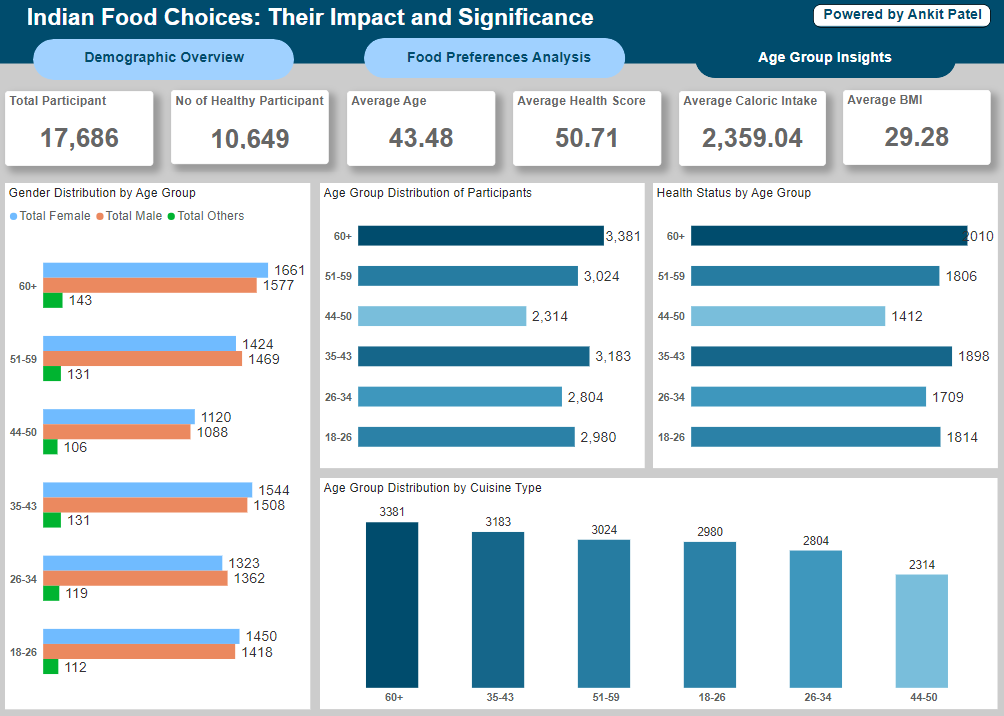

This screenshot's page, from the dashboard's own definition file:
{"tool":"powerbi","page":{"name":"Age Group Insights","canvas":[1400,1000],"ordinal":2},"visuals":[{"type":"shape","box":[0,0,1400,91.1],"z":0},{"type":"actionButton","title":"Indian Food Choices: Their Impact and Significance","box":[0,8.7,873,48],"z":1},{"type":"shape","box":[51.6,56.8,362.6,56.8],"z":2},{"type":"actionButton","title":"Demographic Overview","box":[109.7,71,247.7,27.1],"z":3},{"type":"card","title":"Total Participant ","fields":{"Values":["Meausres Table.Total People"]},"box":[13.1,128.8,206.2,103.7],"z":4},{"type":"card","title":"Average Age","fields":{"Values":["Meausres Table.Average Age"]},"box":[487.4,128.8,206.2,103.7],"z":5},{"type":"card","title":"No of Healthy Participant ","fields":{"Values":["Meausres Table.Total Healthy Participant"]},"box":[243.7,128.4,219.4,103],"z":6},{"type":"card","title":"Average Health Score","fields":{"Values":["Meausres Table.Average Health Score"]},"box":[718,128.8,206.2,103.7],"z":7},{"type":"card","title":"Average BMI","fields":{"Values":["Meausres Table.Average BMI"]},"box":[1177,128.4,205.4,104.1],"z":8},{"type":"card","title":"Average Caloric Intake","fields":{"Values":["Meausres Table.Average Caloric Intake"]},"box":[948.6,128.8,204.1,103.7],"z":9},{"type":"clusteredBarChart","title":"Gender Distribution by Age Group","fields":{"Category":["food_impact_india.Age Group"],"Y":["Meausres Table.Total Female","Meausres Table.Total Male","Meausres Table.Total Others"]},"box":[12.9,257.1,424.3,731.4],"z":10},{"type":"barChart","title":"Age Group Distribution of Participants","fields":{"Category":["food_impact_india.Age Group"],"Y":["Meausres Table.Total People"]},"box":[450,257.1,451.4,395.7],"z":11},{"type":"barChart","title":"Health Status by Age Group","fields":{"Category":["food_impact_india.Age Group"],"Y":["Meausres Table.Healthy food"]},"box":[912.9,257.1,478.6,395.7],"z":12},{"type":"clusteredColumnChart","title":"Age Group Distribution by Cuisine Type","fields":{"Y":["CountNonNull(food_impact_india.Primary_Cuisine)"],"Category":["food_impact_india.Age Group"]},"box":[450,667.1,941.4,321.4],"z":13},{"type":"shape","box":[511.4,55.7,362.9,55.7],"z":14},{"type":"shape","box":[971.4,55.7,362.9,55.7],"z":15},{"type":"actionButton","title":"Food Preferences Analysis","box":[568.6,71.4,261.4,27.1],"z":16},{"type":"actionButton","title":"Age Group Insights","box":[1021.4,71.4,261.4,27.1],"z":17},{"type":"actionButton","title":"Powered by Ankit Patel","box":[1134.3,8.6,247.1,32.9],"z":18}]}

Visuals, with their boxes in screenshot pixels (x1, y1, x2, y2), scaled from the page's 1400x1000 canvas onto the 1004x716 screenshot:
shape: (x1=0, y1=0, x2=1003, y2=65)
"Indian Food Choices: Their Impact and Significance" actionButton: (x1=0, y1=6, x2=626, y2=41)
shape: (x1=37, y1=41, x2=297, y2=81)
"Demographic Overview" actionButton: (x1=79, y1=51, x2=256, y2=70)
"Total Participant " card: (x1=9, y1=92, x2=157, y2=166)
"Average Age" card: (x1=350, y1=92, x2=497, y2=166)
"No of Healthy Participant " card: (x1=175, y1=92, x2=332, y2=166)
"Average Health Score" card: (x1=515, y1=92, x2=663, y2=166)
"Average BMI" card: (x1=844, y1=92, x2=991, y2=166)
"Average Caloric Intake" card: (x1=680, y1=92, x2=827, y2=166)
"Gender Distribution by Age Group" clusteredBarChart: (x1=9, y1=184, x2=314, y2=708)
"Age Group Distribution of Participants" barChart: (x1=323, y1=184, x2=646, y2=467)
"Health Status by Age Group" barChart: (x1=655, y1=184, x2=998, y2=467)
"Age Group Distribution by Cuisine Type" clusteredColumnChart: (x1=323, y1=478, x2=998, y2=708)
shape: (x1=367, y1=40, x2=627, y2=80)
shape: (x1=697, y1=40, x2=957, y2=80)
"Food Preferences Analysis" actionButton: (x1=408, y1=51, x2=595, y2=71)
"Age Group Insights" actionButton: (x1=732, y1=51, x2=920, y2=71)
"Powered by Ankit Patel" actionButton: (x1=813, y1=6, x2=991, y2=30)
